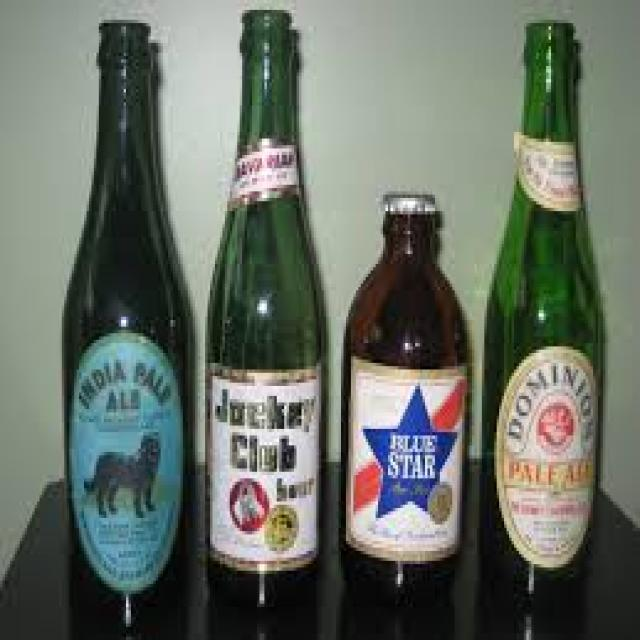glass: (62, 23, 185, 627), (203, 7, 321, 607), (480, 23, 601, 597), (336, 214, 465, 604)
metal: (378, 188, 433, 208)
